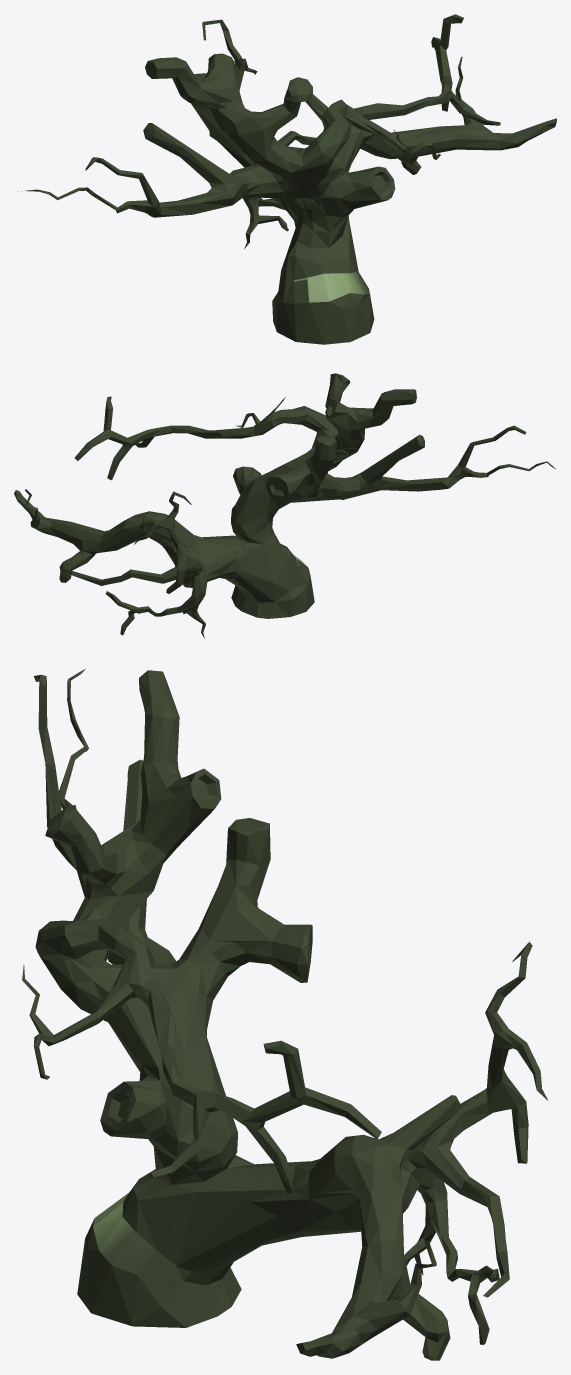
File: EA_Swamp_tree9.glb
3 views of the same model, one above another, from view 1: azimuth 30°, elevation 25°; view 2: azimuth 150°, elevation 25°; view 3: azimuth 270°, elevation 25° (orthographic). The views are drawn at different scales.
Visible parts, largest first — view 1: EA_Swamp_tree9; view 2: EA_Swamp_tree9; view 3: EA_Swamp_tree9.
Part boxes in pixels (box(x1,y1,x2,y2)): EA_Swamp_tree9: box(18, 14, 556, 344); EA_Swamp_tree9: box(14, 373, 556, 638); EA_Swamp_tree9: box(22, 669, 548, 1360).
Size of the model in its own units: 13.17 by 6.29 by 6.15.
Materials: 1 (1 with a texture image).
